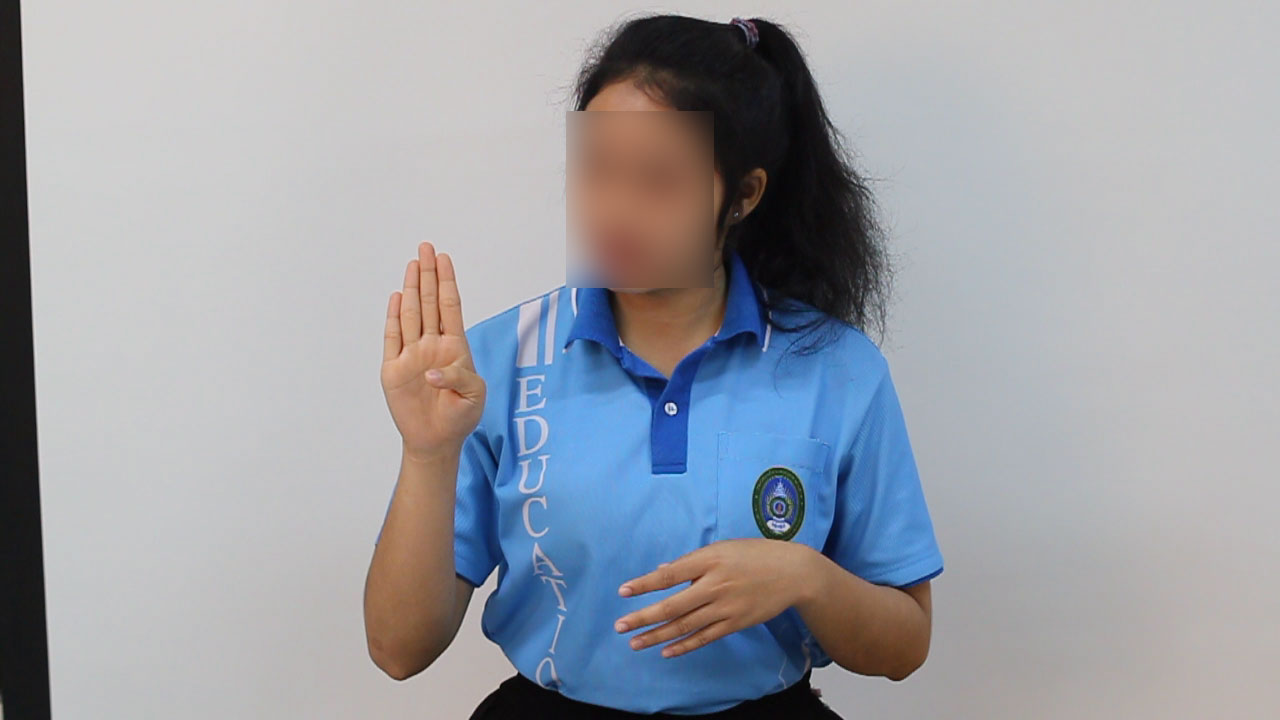bor: (362, 227, 509, 481)
